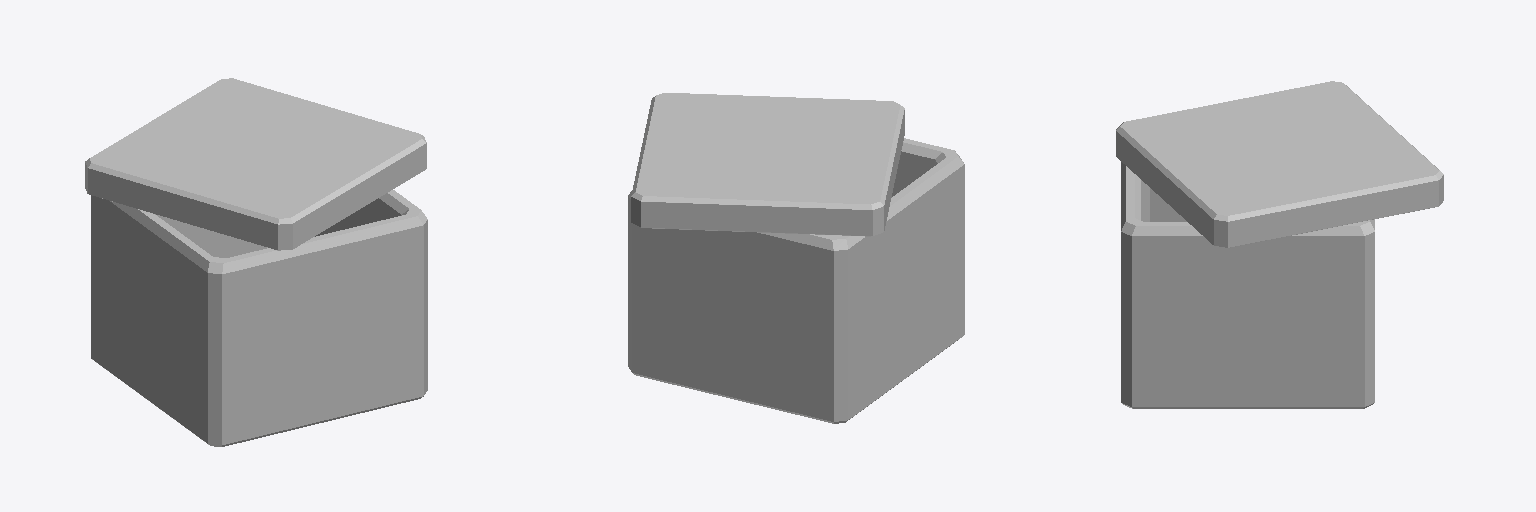
File: boxBig_open2.obj
3 renders of one model, left to right at view 1: azimuth 30°, elevation 25°; view 2: azimuth 150°, elevation 25°; view 3: azimuth 270°, elevation 25°, orthographic.
Visible parts, largest first — view 1: boxBig; view 2: boxBig; view 3: boxBig.
Boxes of the visible parts, box(x1,y1,x2,y2) form: boxBig: box(85, 78, 427, 446); boxBig: box(628, 93, 964, 423); boxBig: box(1116, 81, 1443, 408).
Size of the model in its own units: 1.54 by 1.11 by 1.54.